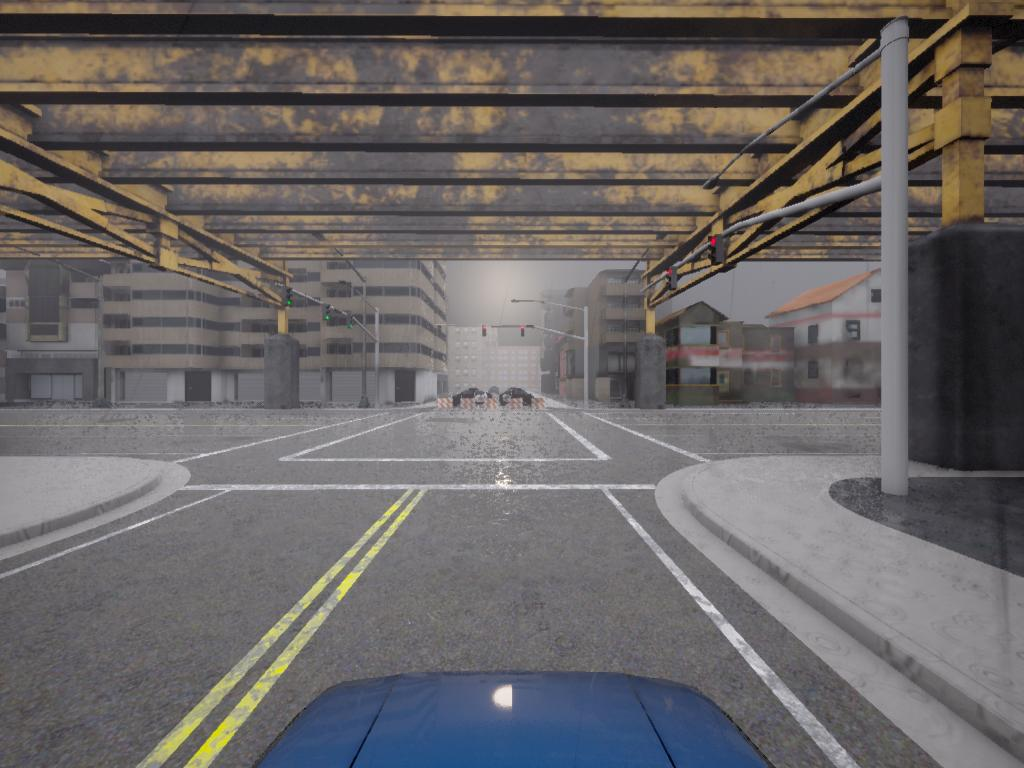traffic_light: (708, 235, 725, 266), (666, 268, 677, 294), (283, 286, 294, 311), (322, 304, 331, 323), (348, 312, 356, 331), (482, 326, 489, 338), (521, 326, 526, 339)
